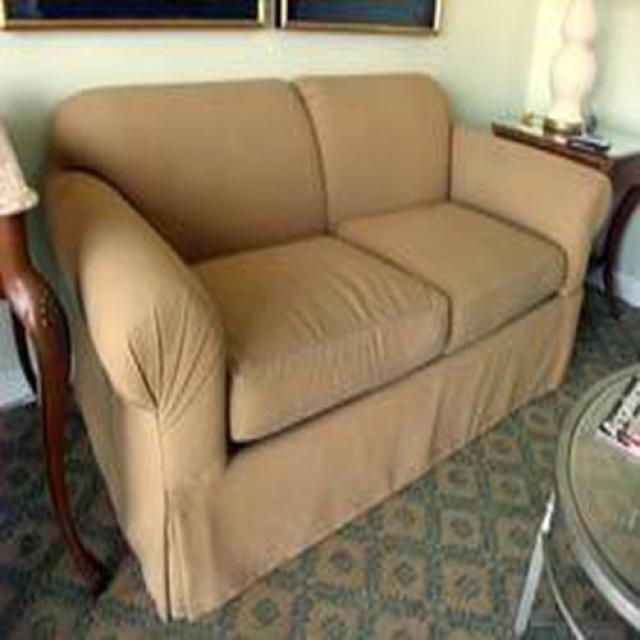sofa: (37, 74, 613, 623)
